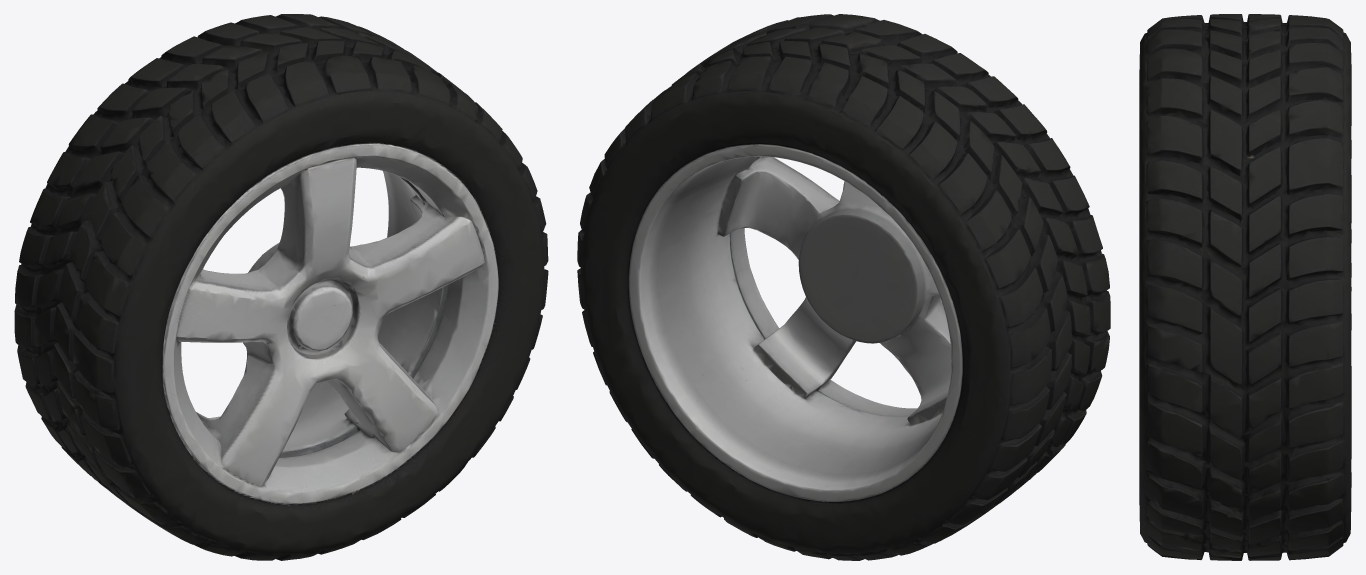
The model's file is wheel_1k_real.glb.
The picture shows the model from 3 angles, left to right: view 1: azimuth 30°, elevation 25°; view 2: azimuth 150°, elevation 25°; view 3: azimuth 270°, elevation 25°; orthographic projection. The views are drawn at different scales.
Parts seen in each view (by area): view 1: tripo_node_4352e34d-a84b-4024-afcd-79efe6036036; view 2: tripo_node_4352e34d-a84b-4024-afcd-79efe6036036; view 3: tripo_node_4352e34d-a84b-4024-afcd-79efe6036036.
Boxes of the visible parts, left/top/right/bottom form: tripo_node_4352e34d-a84b-4024-afcd-79efe6036036: left=14, top=14, right=548, bottom=560; tripo_node_4352e34d-a84b-4024-afcd-79efe6036036: left=577, top=14, right=1110, bottom=560; tripo_node_4352e34d-a84b-4024-afcd-79efe6036036: left=1139, top=14, right=1351, bottom=560.
Size of the model in its own units: 0.9974 by 1 by 0.3877.
Materials: 1 (1 with a texture image).
